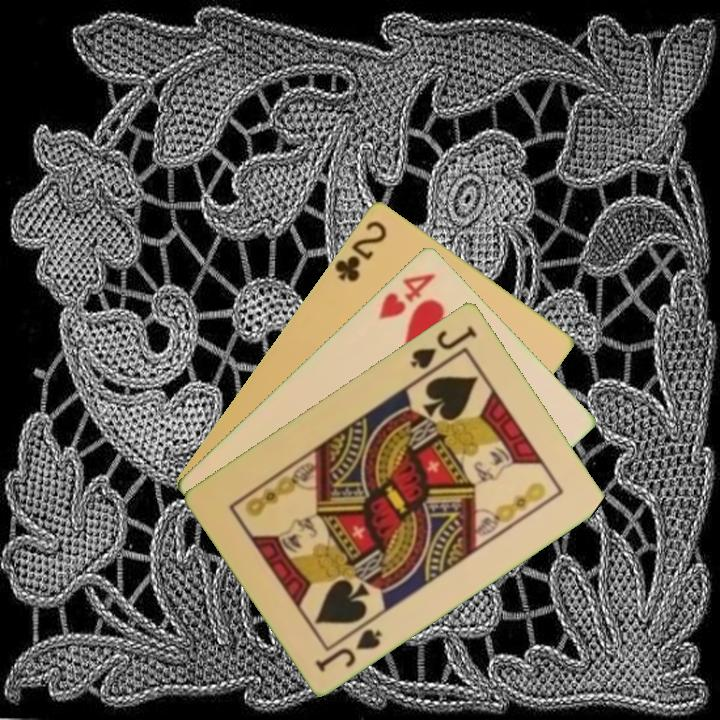2c: (331, 216, 390, 284)
4h: (375, 268, 439, 322)
Js: (406, 321, 481, 372), (311, 624, 385, 674)
